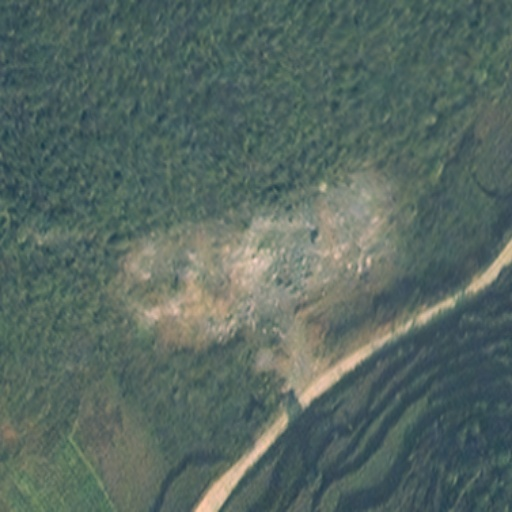landslide: (129, 178, 410, 334)
